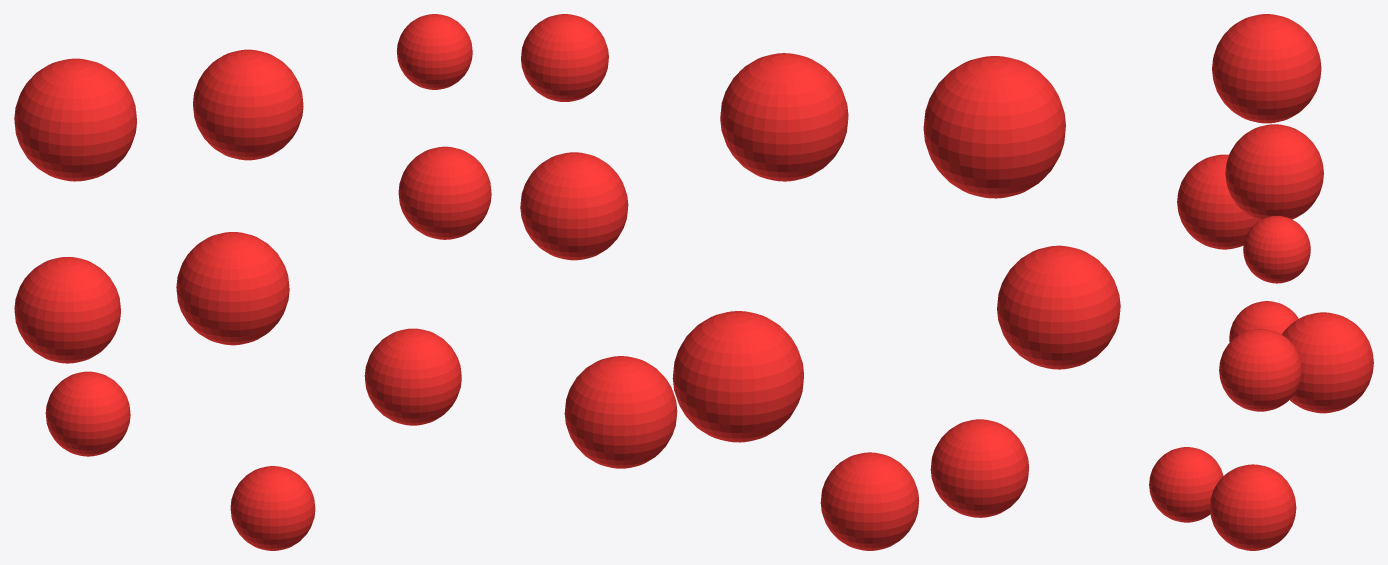
The model's file is fire3.obj.
3 views of the same model, side by side, from view 1: azimuth 30°, elevation 25°; view 2: azimuth 150°, elevation 25°; view 3: azimuth 270°, elevation 25° (orthographic). The views are drawn at different scales.
Parts seen in each view (by area): view 1: Sphere.025, Sphere.018, Sphere.024, Sphere.022, Sphere.020, Sphere.023, Sphere.019, Sphere.017, Sphere.021; view 2: Sphere.025, Sphere.018, Sphere.024, Sphere.022, Sphere.020, Sphere.023, Sphere.019, Sphere.017, Sphere.021; view 3: Sphere.025, Sphere.024, Sphere.018, Sphere.020, Sphere.023, Sphere.022, Sphere.017, Sphere.021, Sphere.019.
Part boxes in pixels (left/top/right/bottom): Sphere.025: left=14, top=58, right=136, bottom=181; Sphere.018: left=176, top=232, right=289, bottom=345; Sphere.024: left=193, top=49, right=303, bottom=160; Sphere.022: left=14, top=257, right=120, bottom=363; Sphere.020: left=364, top=328, right=461, bottom=425; Sphere.023: left=398, top=146, right=491, bottom=239; Sphere.019: left=45, top=371, right=130, bottom=456; Sphere.017: left=230, top=466, right=315, bottom=550; Sphere.021: left=397, top=14, right=472, bottom=89; Sphere.025: left=923, top=56, right=1065, bottom=198; Sphere.018: left=672, top=311, right=803, bottom=442; Sphere.024: left=720, top=53, right=848, bottom=181; Sphere.022: left=997, top=245, right=1120, bottom=369; Sphere.020: left=564, top=356, right=677, bottom=468; Sphere.023: left=520, top=152, right=628, bottom=260; Sphere.019: left=930, top=419, right=1029, bottom=517; Sphere.017: left=820, top=452, right=919, bottom=550; Sphere.021: left=521, top=14, right=608, bottom=101; Sphere.025: left=1212, top=14, right=1321, bottom=123; Sphere.024: left=1225, top=124, right=1323, bottom=220; Sphere.018: left=1282, top=312, right=1373, bottom=413; Sphere.020: left=1209, top=464, right=1296, bottom=550; Sphere.023: left=1219, top=328, right=1301, bottom=411; Sphere.022: left=1177, top=154, right=1259, bottom=249; Sphere.017: left=1149, top=447, right=1223, bottom=522; Sphere.021: left=1243, top=216, right=1310, bottom=283; Sphere.019: left=1229, top=301, right=1298, bottom=342.
Bounding box in the file's own units: 1.7 × 1.63 × 0.7669.
Materials: 1 (1 with a texture image).
